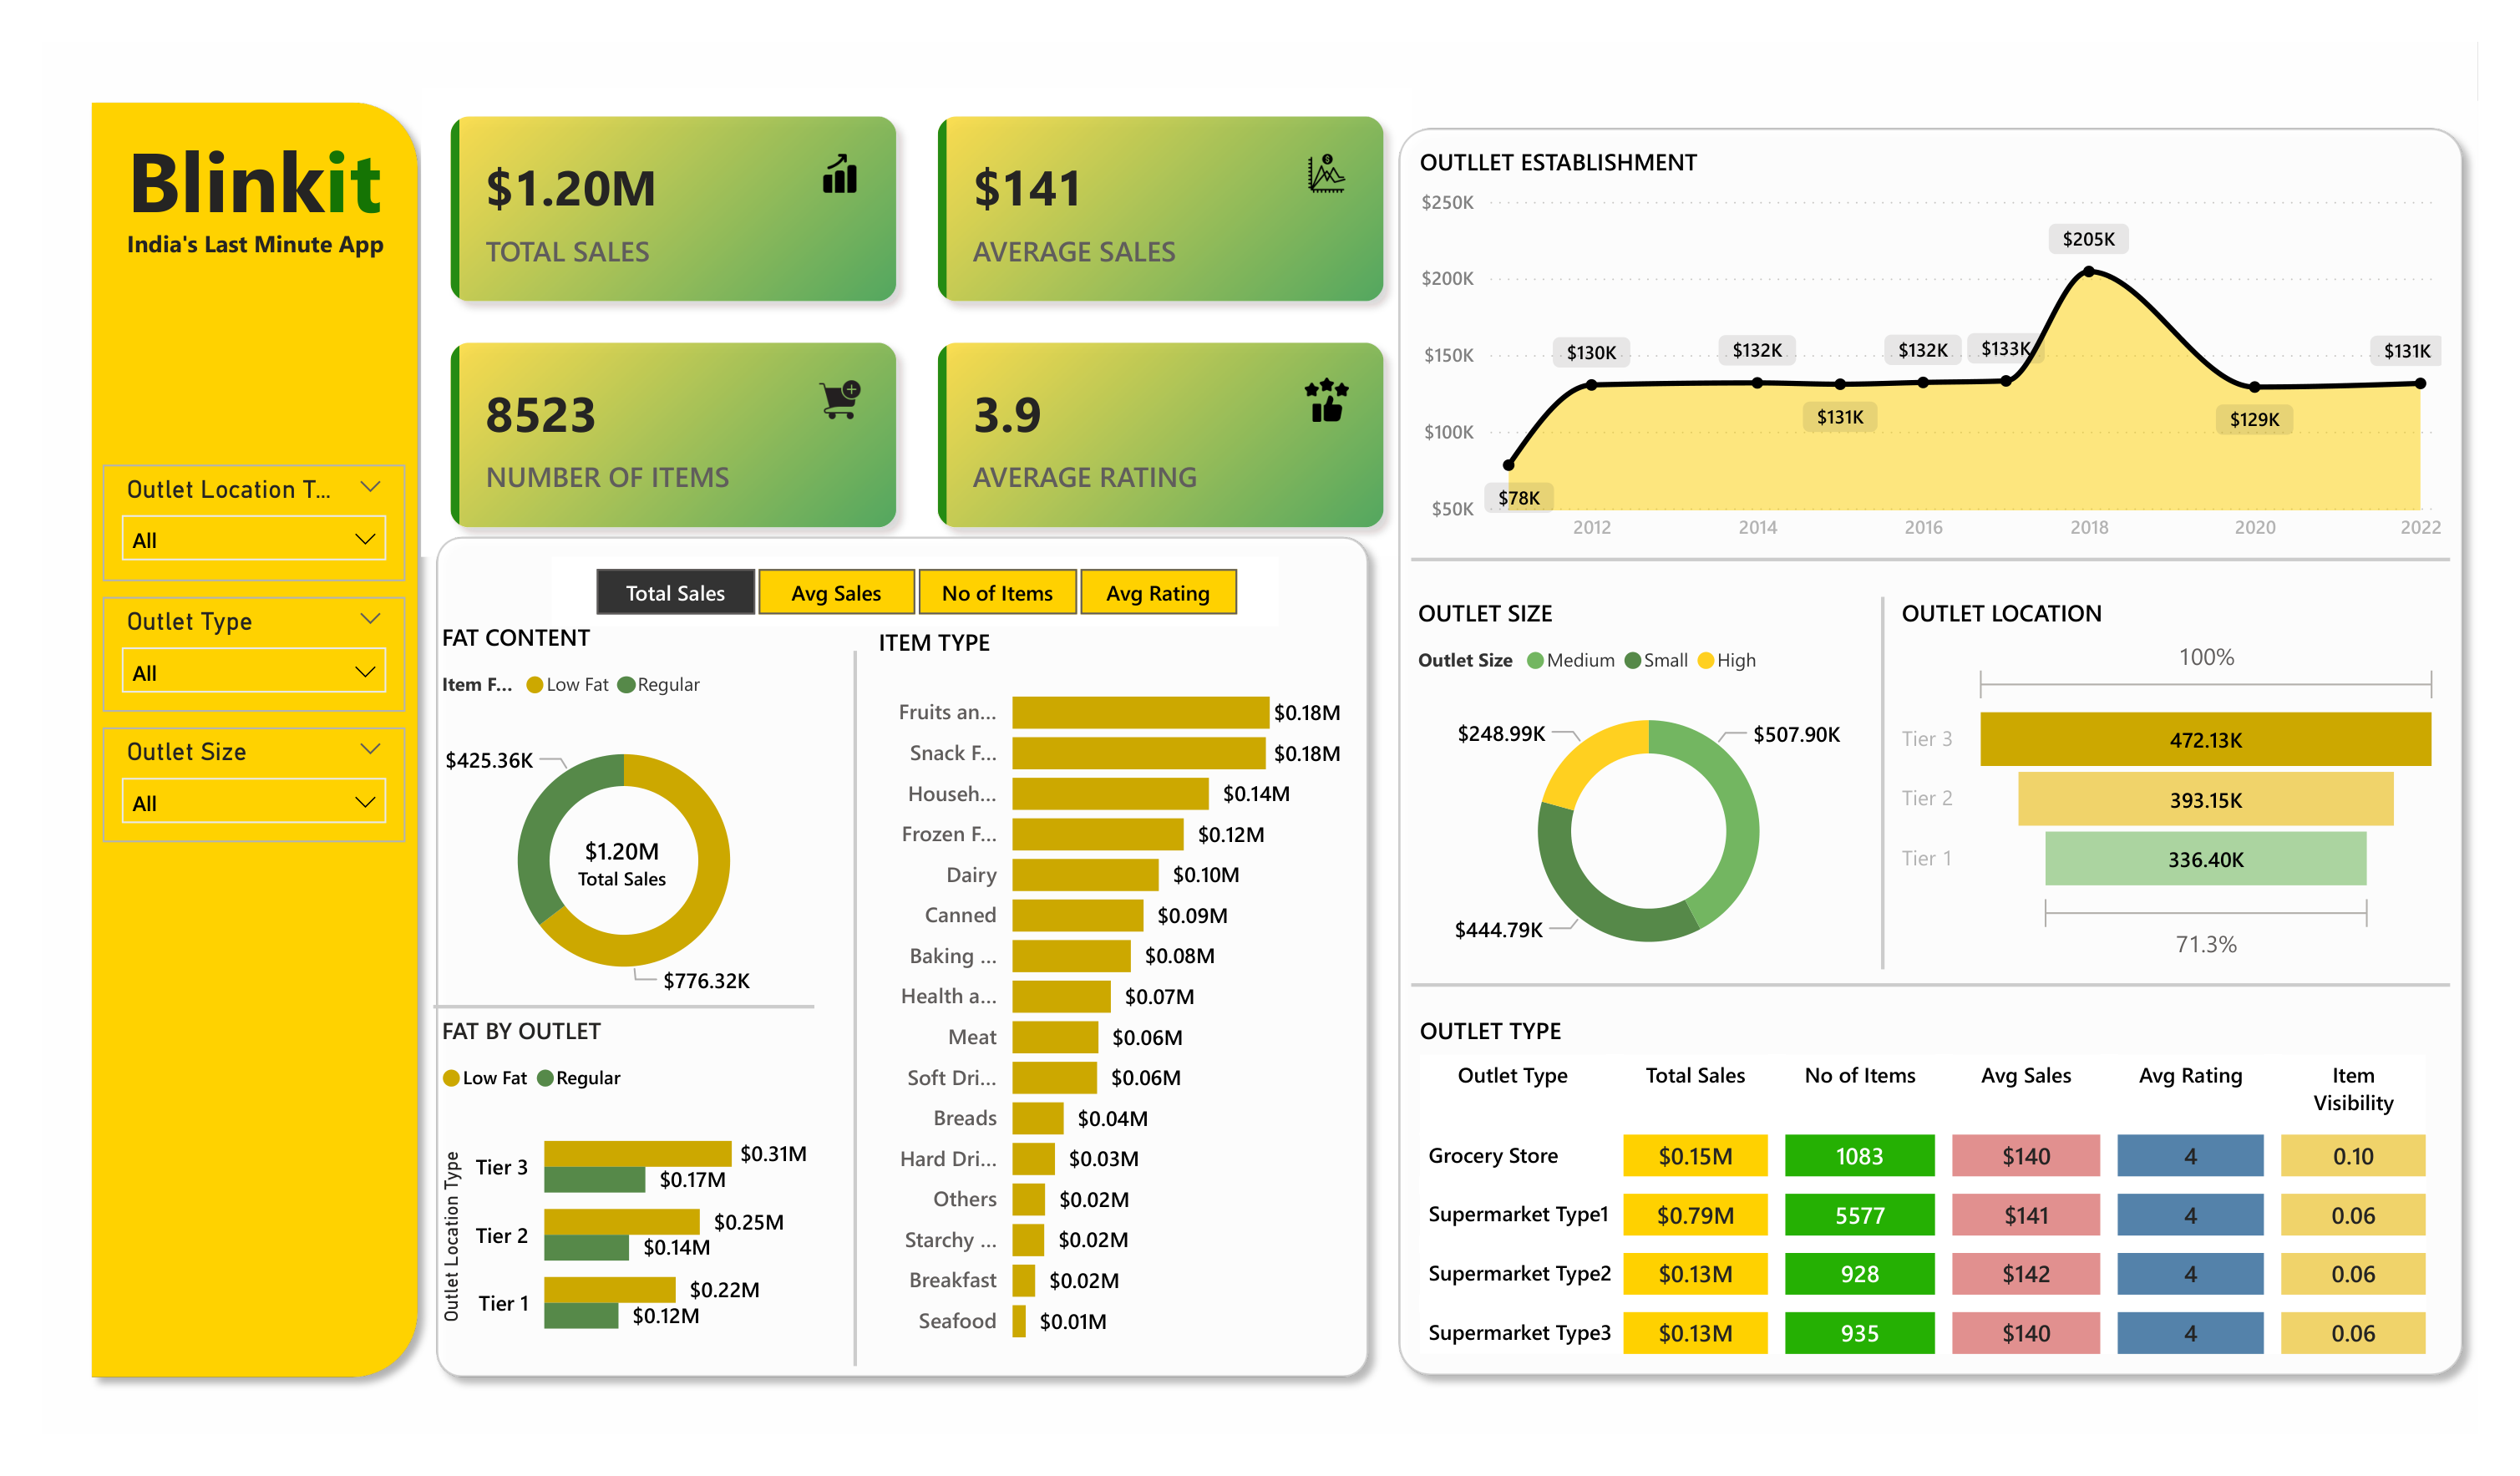

Layout of this report page (visuals, bound fields, positions):
{"tool":"powerbi","page":{"name":"Page 1","canvas":[1400,800],"ordinal":0},"visuals":[{"type":"shape","box":[19.5,25.5,205.6,750.4],"z":0},{"type":"textbox","box":[43.5,40.5,181.6,78],"z":1000},{"type":"textbox","box":[43.5,102.1,181.6,33],"z":2000},{"type":"cardVisual","fields":{"Data":["BlinkIT Grocery Data.Total Sales","BlinkIT Grocery Data.Avg Sales","BlinkIT Grocery Data.No of Items","BlinkIT Grocery Data.Avg Rating"]},"box":[217.6,25.5,570.3,270.2],"z":3000},{"type":"shape","box":[217.6,276.2,553.8,499.8],"z":4000},{"type":"donutChart","title":"FAT CONTENT","fields":{"Y":["BlinkIT Grocery Data.Total Sales"],"Category":["BlinkIT Grocery Data.Item Fat Content"]},"box":[225.1,333.2,219.1,231.1],"z":5000},{"type":"slicer","fields":{"Values":["Metrics.Metrics"]},"box":[292.7,295.7,418.7,40.5],"z":6000},{"type":"cardVisual","fields":{"Data":["BlinkIT Grocery Data.Total Sales"]},"box":[276.2,433.7,115.6,76.5],"z":7000},{"type":"clusteredBarChart","title":"FAT BY OUTLET","fields":{"Y":["BlinkIT Grocery Data.Total Sales"],"Category":["BlinkIT Grocery Data.Outlet Location Type"],"Series":["BlinkIT Grocery Data.Item Fat Content"]},"box":[225.4,558.9,219.4,202.8],"z":8000},{"type":"shape","box":[225.1,544.8,219.1,19.5],"z":9000},{"type":"shape","box":[460.8,349.7,13.5,411.2],"z":10000},{"type":"barChart","title":"ITEM TYPE","fields":{"Y":["BlinkIT Grocery Data.Total Sales"],"Category":["BlinkIT Grocery Data.Item Type"]},"box":[475.8,336.2,276.2,423.2],"z":11000},{"type":"shape","box":[770.8,40.6,629.5,734.7],"z":12000},{"type":"lineChart","title":"OUTLLET ESTABLISHMENT","fields":{"Category":["BlinkIT Grocery Data.Outlet Establishment Year"],"Y":["BlinkIT Grocery Data.Total Sales"]},"box":[787.3,60.1,596.5,235.9],"z":13000},{"type":"shape","box":[787.3,288.5,596.5,18],"z":14000},{"type":"donutChart","title":"OUTLET SIZE","fields":{"Y":["BlinkIT Grocery Data.Total Sales"],"Category":["BlinkIT Grocery Data.Outlet Size"]},"box":[785.8,318.5,275,225.4],"z":15000},{"type":"shape","box":[1054.7,318.5,6,214.9],"z":16000},{"type":"funnel","title":"OUTLET LOCATION","fields":{"Y":["Sum(BlinkIT Grocery Data.Sales)"],"Category":["BlinkIT Grocery Data.Outlet Location Type"]},"box":[1063.8,318.5,320,214.9],"z":17000},{"type":"shape","box":[787.3,533.4,596.5,18],"z":17001},{"type":"pivotTable","title":"OUTLET TYPE","fields":{"Rows":["BlinkIT Grocery Data.Outlet Type"],"Values":["BlinkIT Grocery Data.Total Sales","BlinkIT Grocery Data.No of Items","BlinkIT Grocery Data.Avg Sales","BlinkIT Grocery Data.Avg Rating","Avg(BlinkIT Grocery Data.Item Visibility)"]},"box":[787.3,558.9,596.5,202.8],"z":17002},{"type":"slicer","fields":{"Values":["BlinkIT Grocery Data.Outlet Location Type"]},"box":[34.6,243.4,174.3,66.1],"z":17003},{"type":"slicer","fields":{"Values":["BlinkIT Grocery Data.Outlet Type"]},"box":[34.6,318.5,174.3,66.1],"z":17004},{"type":"slicer","fields":{"Values":["BlinkIT Grocery Data.Outlet Size"]},"box":[34.6,393.6,174.3,66.1],"z":17005}]}

Visuals, with their boxes in screenshot pixels (x1, y1, x2, y2):
shape: 76/86/434/1392
textbox: 118/112/434/248
textbox: 118/220/434/277
cardVisual - BlinkIT Grocery Data.Total Sales x BlinkIT Grocery Data.Avg Sales: 420/86/1413/556
shape: 420/523/1384/1392
"FAT CONTENT" donutChart: 434/621/815/1024
slicer - Metrics.Metrics: 551/556/1280/627
cardVisual - BlinkIT Grocery Data.Total Sales: 522/797/723/930
"FAT BY OUTLET" clusteredBarChart: 434/1015/816/1367
shape: 434/990/815/1024
shape: 844/651/867/1367
"ITEM TYPE" barChart: 870/627/1351/1363
shape: 1383/113/2478/1392
"OUTLLET ESTABLISHMENT" lineChart: 1412/146/2450/557
shape: 1412/544/2450/576
"OUTLET SIZE" donutChart: 1409/596/1888/988
shape: 1878/596/1888/970
"OUTLET LOCATION" funnel: 1894/596/2450/970
shape: 1412/970/2450/1002
"OUTLET TYPE" pivotTable: 1412/1015/2450/1367
slicer - BlinkIT Grocery Data.Outlet Location Type: 102/465/405/581
slicer - BlinkIT Grocery Data.Outlet Type: 102/596/405/711
slicer - BlinkIT Grocery Data.Outlet Size: 102/727/405/842
